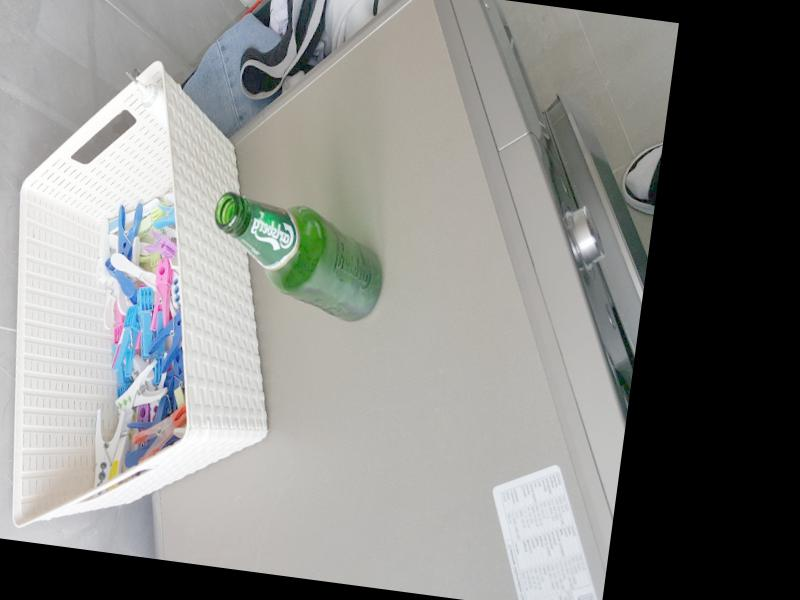Beer: (202, 191, 391, 325)
